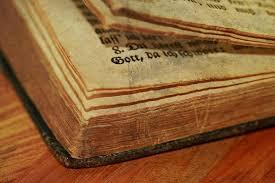Paper: (3, 0, 275, 183)
